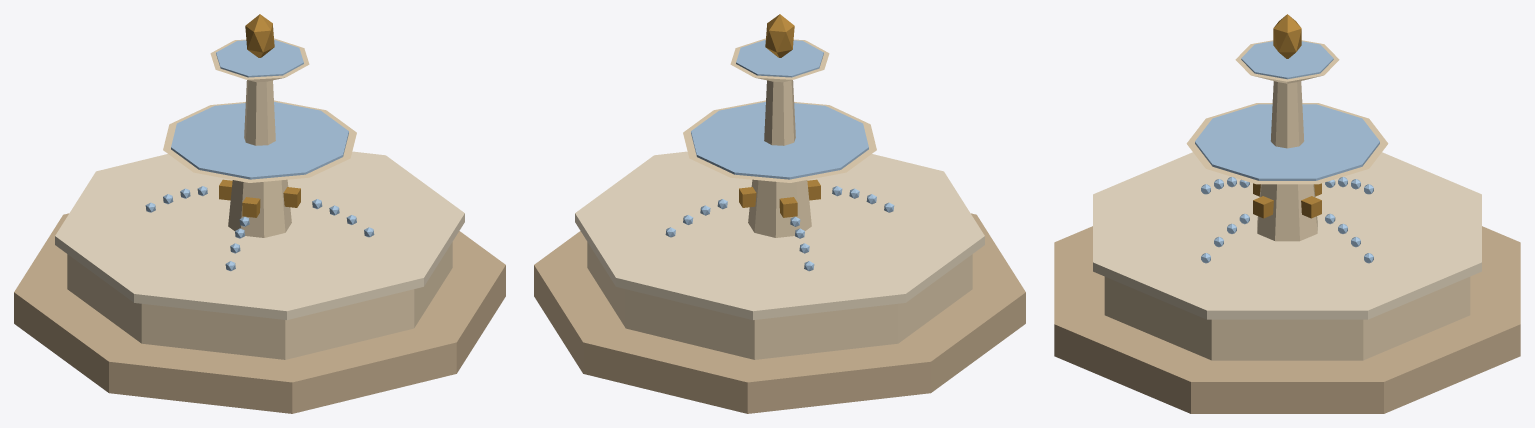
Rendered from fountain.glb.
3 views of the same model, side by side, from view 1: azimuth 30°, elevation 25°; view 2: azimuth 150°, elevation 25°; view 3: azimuth 270°, elevation 25° (orthographic).
Visible parts, largest first — view 1: fountain; view 2: fountain; view 3: fountain.
Part boxes in pixels (bbox=[...]): fountain: bbox=[14, 14, 505, 413]; fountain: bbox=[534, 14, 1025, 413]; fountain: bbox=[1054, 14, 1520, 413].
Bounding box in the file's own units: 5.54 × 3.95 × 5.54.
